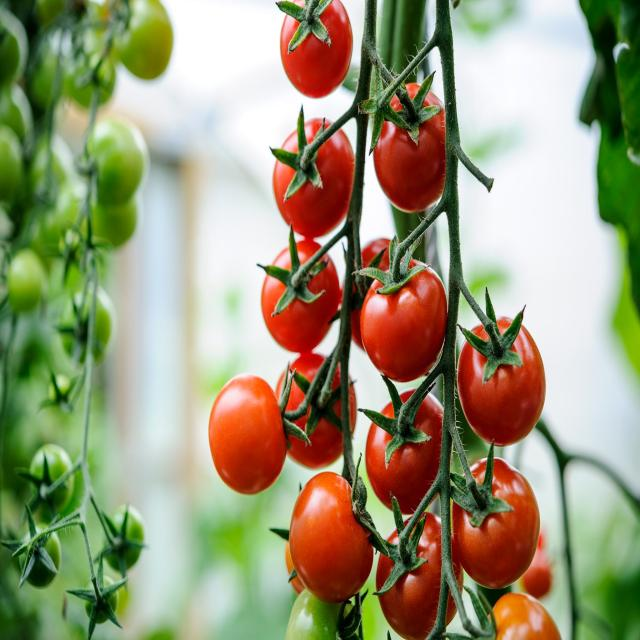ripe2: (458, 316, 545, 447), (455, 455, 541, 587), (290, 472, 374, 601), (360, 260, 446, 381), (272, 117, 354, 240), (373, 84, 446, 214), (209, 373, 286, 495), (261, 239, 340, 354), (379, 511, 448, 637), (365, 388, 441, 494), (280, 0, 353, 100)
